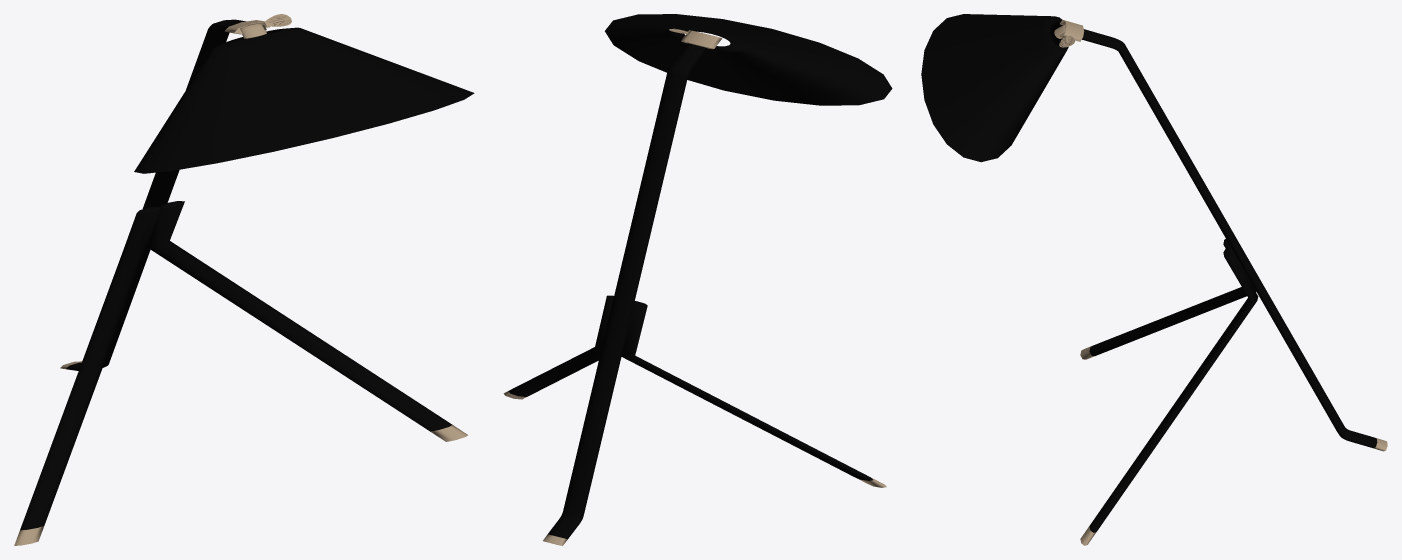
The model's file is floorlamp2.fbx.
3 views of the same model, side by side, from view 1: azimuth 30°, elevation 25°; view 2: azimuth 150°, elevation 25°; view 3: azimuth 270°, elevation 25° (orthographic). The views are drawn at different scales.
Visible parts, largest first — view 1: unknown_french_floor_lamp_obj; view 2: unknown_french_floor_lamp_obj; view 3: unknown_french_floor_lamp_obj.
Part boxes in pixels (x1,y1,x2,y2): unknown_french_floor_lamp_obj: (14, 14, 474, 545); unknown_french_floor_lamp_obj: (503, 14, 892, 545); unknown_french_floor_lamp_obj: (921, 14, 1387, 545).
Size of the model in its own units: 100 by 100 by 100.
